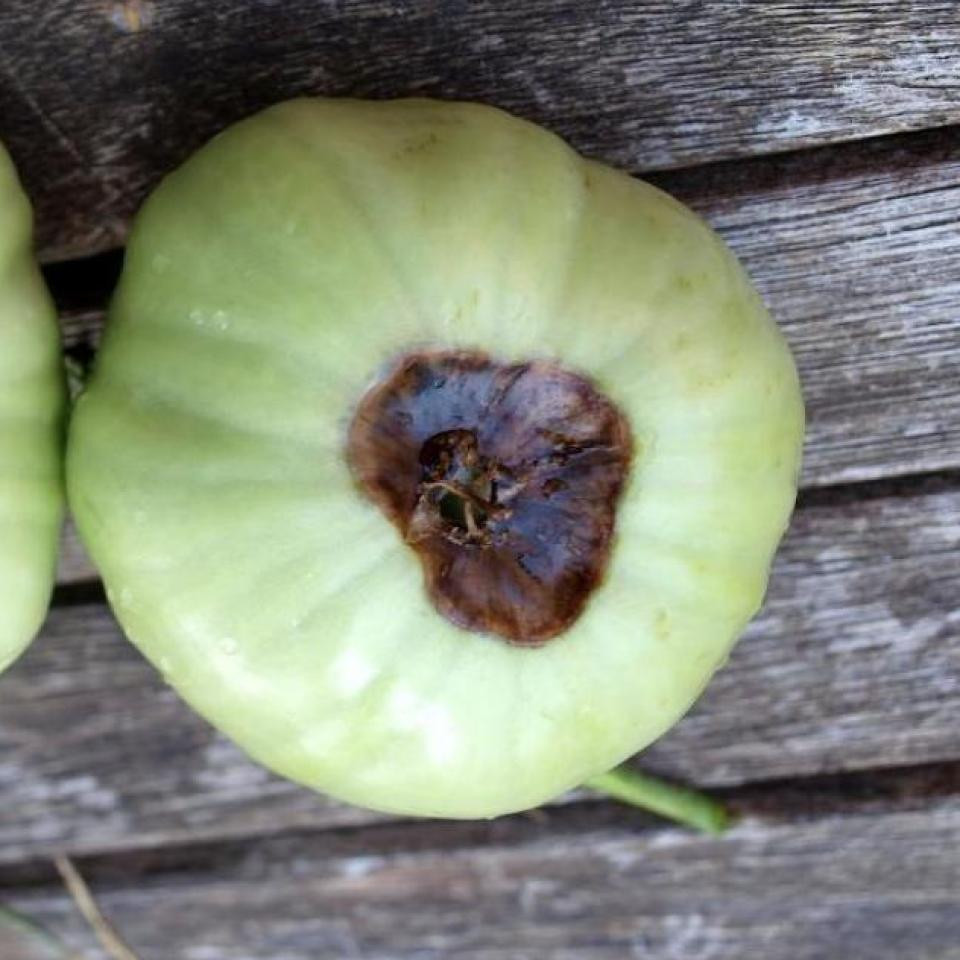Blossom_end_rot: (332, 352, 642, 648)
